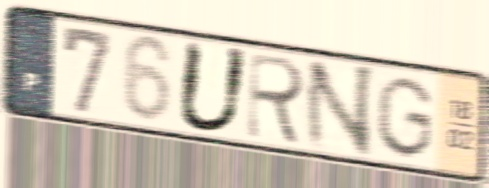6: (119, 32, 179, 129)
7: (59, 21, 114, 117)
G: (372, 73, 436, 162)
N: (303, 59, 380, 161)
R: (243, 49, 309, 149)
U: (173, 36, 253, 136)
